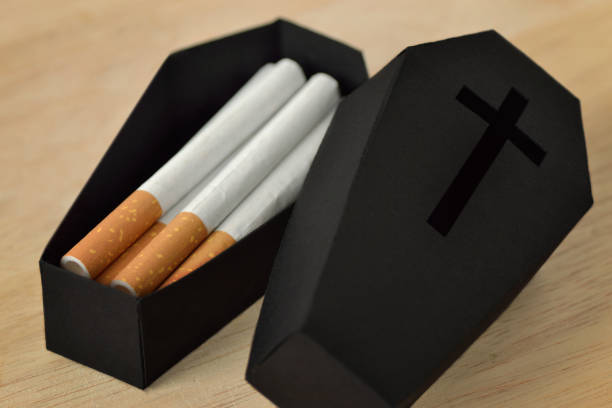cigarette: (63, 57, 306, 281), (111, 71, 339, 298), (156, 95, 345, 291), (95, 119, 268, 287)
